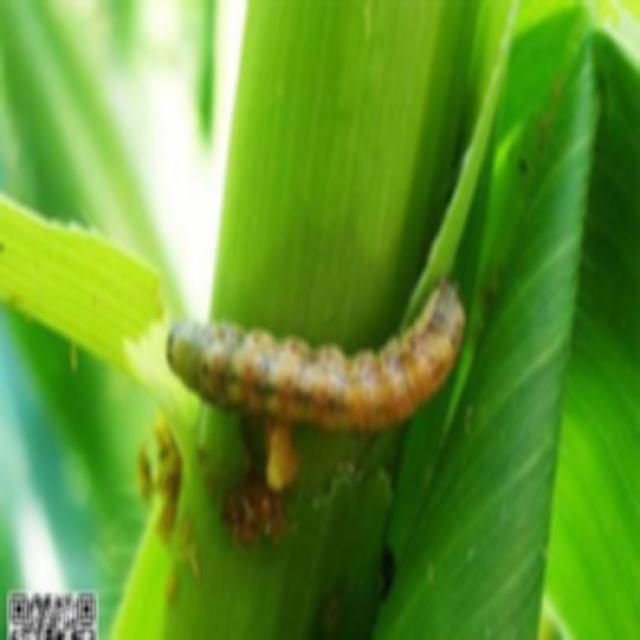army worm: (165, 279, 470, 428)
